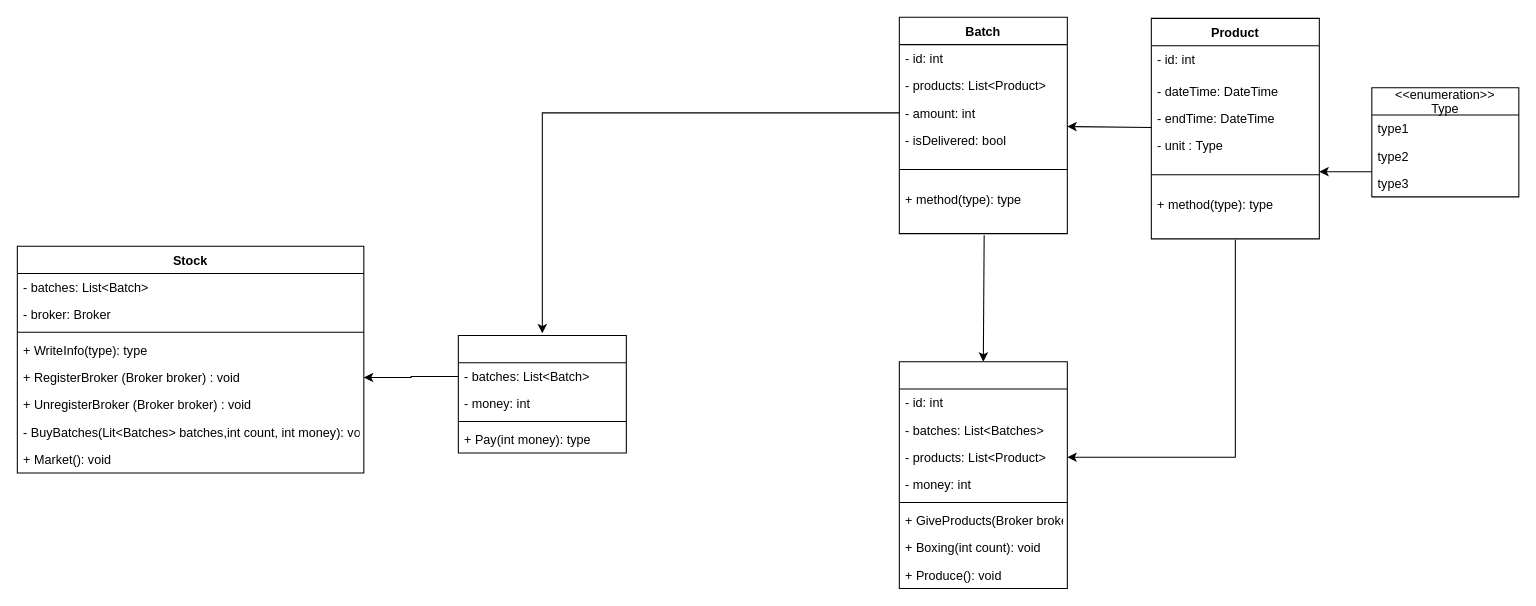
Image size: 1536x606. Some labels were removed from this diagram. The shapes that lost their labels are listed below. From the top down, each one's box as (x1, y1, x2, y2) in pixels, then its label:
(457, 334, 626, 453): Broker
(898, 361, 1067, 589): Company
